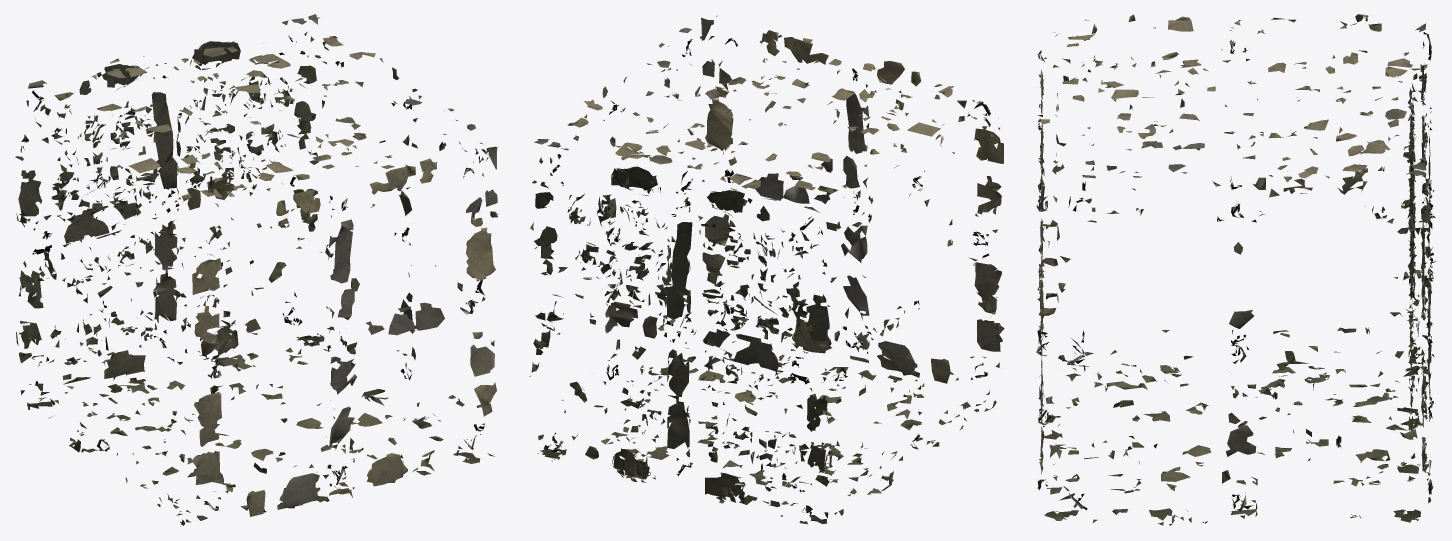
File: DungeonCeiling_ChainAnchor_A_S1337_Retopo8000.glb
The picture shows the model from 3 angles, left to right: view 1: azimuth 30°, elevation 25°; view 2: azimuth 150°, elevation 25°; view 3: azimuth 270°, elevation 25°; orthographic projection. The views are drawn at different scales.
Parts seen in each view (by area): view 1: world; view 2: world; view 3: world.
Part boxes in pixels (left/top/right/bottom): world: left=15, top=14, right=498, bottom=525; world: left=529, top=15, right=1004, bottom=524; world: left=1036, top=14, right=1436, bottom=525.
Size of the model in its own units: 1 by 1 by 1.02.
1 material, 1 textured.
